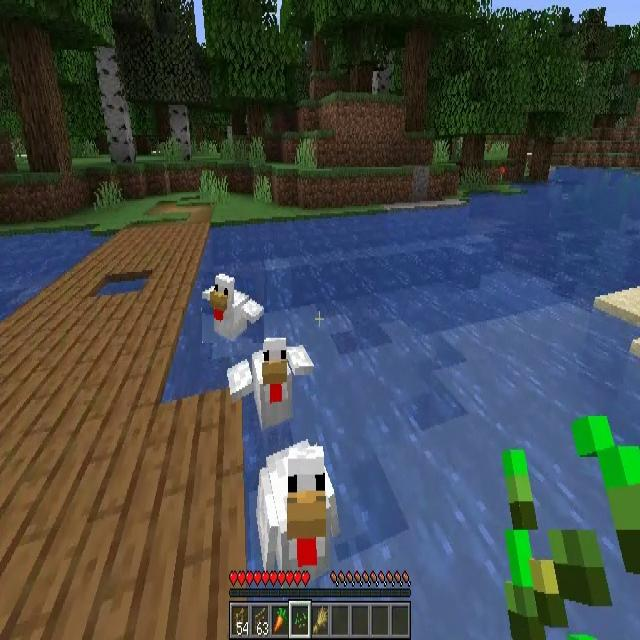duck: (255, 439, 340, 569), (227, 336, 314, 426), (202, 272, 264, 343)
